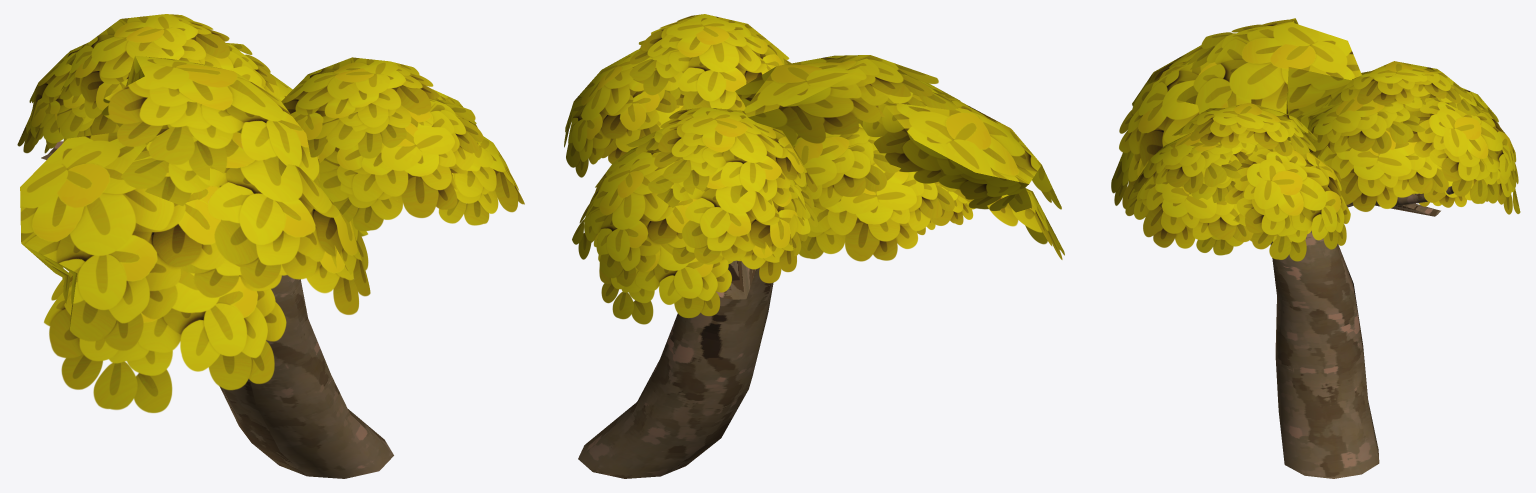
Rendered from Tree_2.glb.
3 renders of one model, left to right at view 1: azimuth 30°, elevation 25°; view 2: azimuth 150°, elevation 25°; view 3: azimuth 270°, elevation 25°, orthographic. The views are drawn at different scales.
Parts seen in each view (by area): view 1: Tree_2; view 2: Tree_2; view 3: Tree_2.
Boxes of the visible parts, bbox=[...] form: Tree_2: bbox=[17, 14, 524, 478]; Tree_2: bbox=[564, 14, 1064, 478]; Tree_2: bbox=[1111, 18, 1520, 478].
Size of the model in its own units: 6.64 by 5.69 by 6.13.
Materials: 2 (2 with a texture image).
